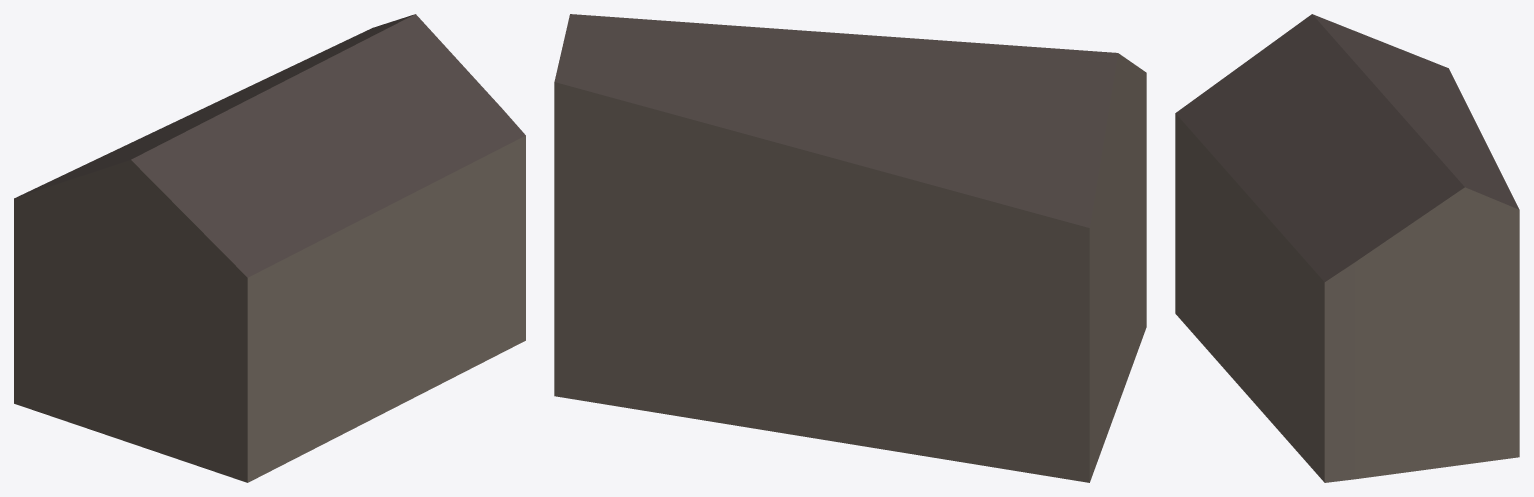
3 views of the same model, side by side, from view 1: azimuth 30°, elevation 25°; view 2: azimuth 150°, elevation 25°; view 3: azimuth 270°, elevation 25° (orthographic). The views are drawn at different scales.
Parts seen in each view (by area): view 1: HP-w1198893544; view 2: HP-w1198893544; view 3: HP-w1198893544.
Part boxes in pixels (x1,y1,x2,y2): HP-w1198893544: [14, 14, 525, 482]; HP-w1198893544: [554, 14, 1146, 482]; HP-w1198893544: [1175, 14, 1519, 482].
Size of the model in its own units: 13.73 by 8.29 by 9.32.
